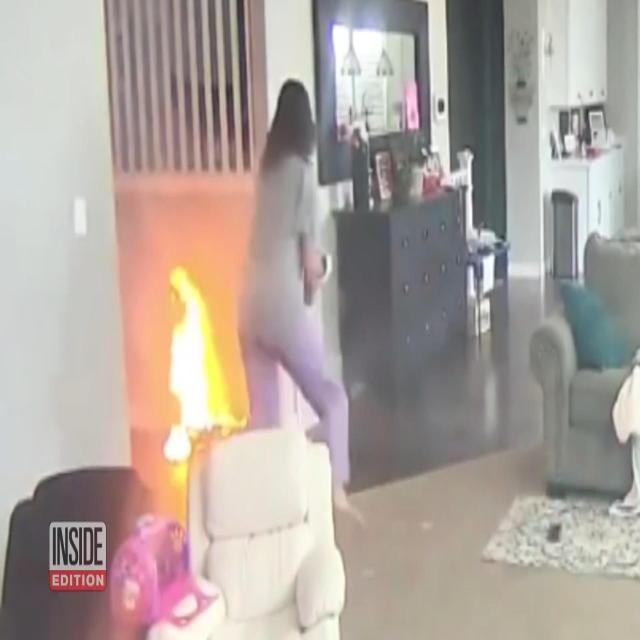fire: (164, 267, 246, 459)
